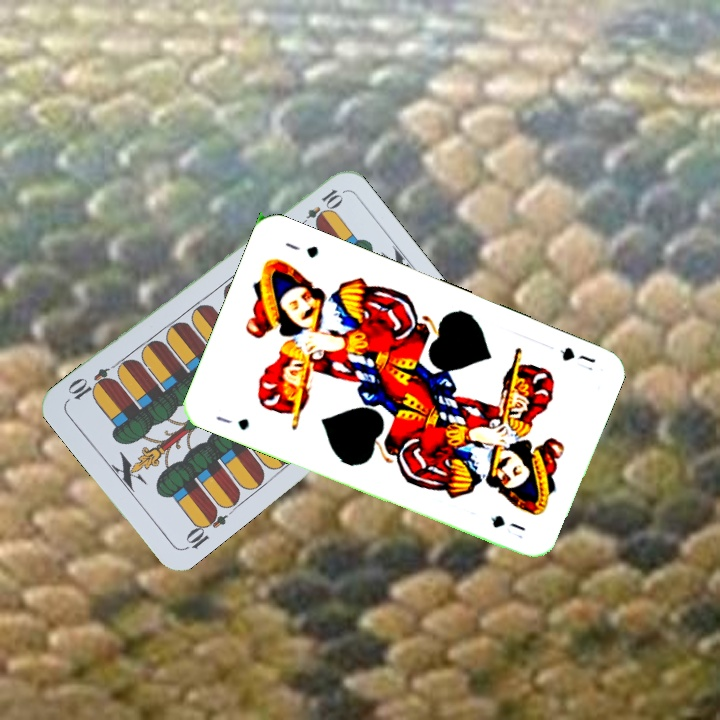E10: (180, 504, 230, 553), (294, 185, 345, 232)
GU: (555, 343, 598, 366), (212, 412, 252, 433)
